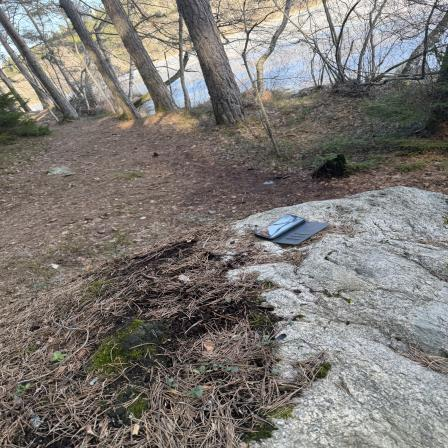phone: (256, 212, 328, 245)
